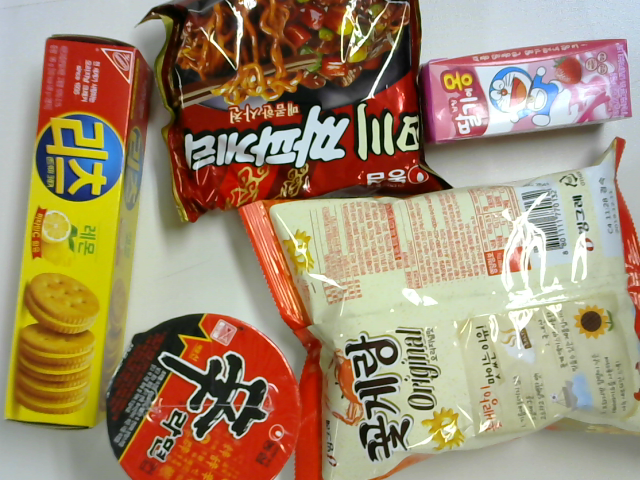Crabrang: (247, 142, 635, 480)
Ritz_Remon_96g: (11, 30, 153, 428)
Sichuan_Chapaghetti: (139, 6, 443, 208)
Sinramen_small: (105, 320, 301, 480)
Strawberry_E_Mong: (429, 38, 639, 150)
